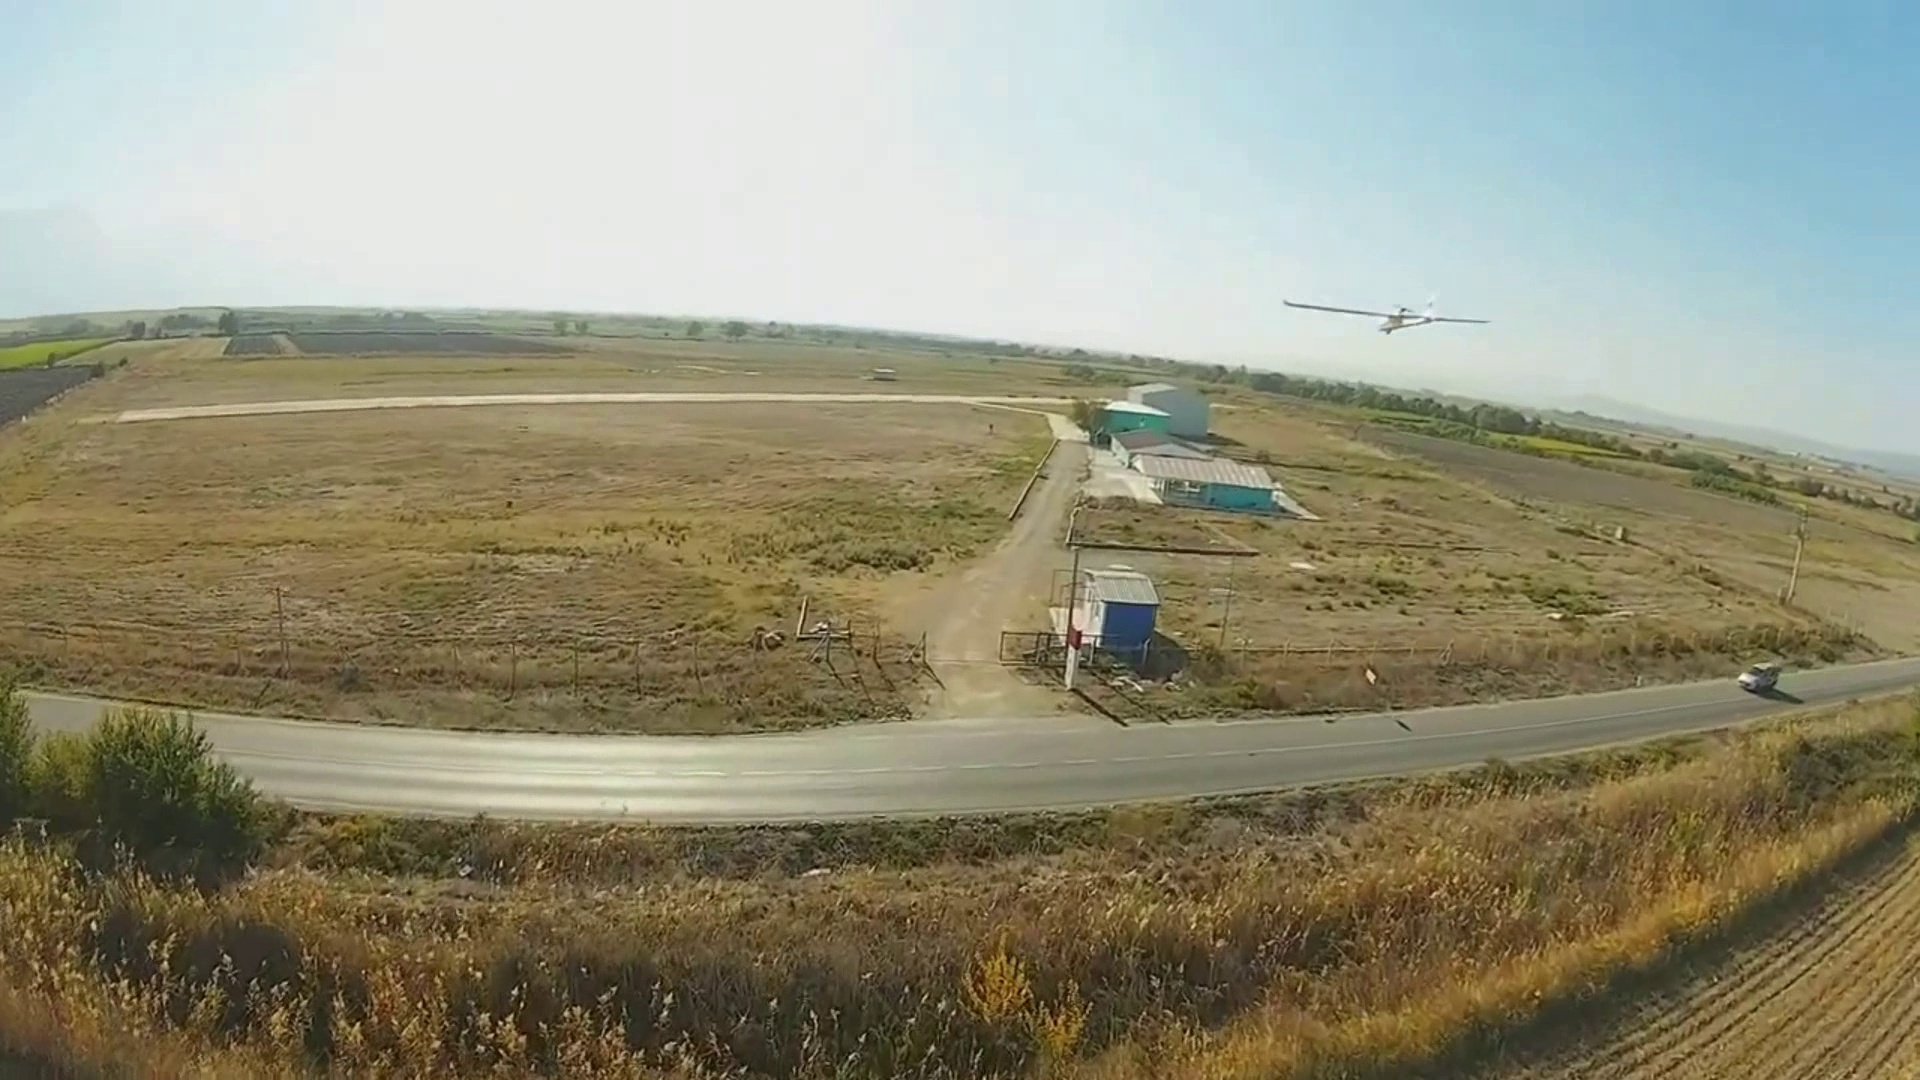airplane: (1280, 293, 1491, 338)
